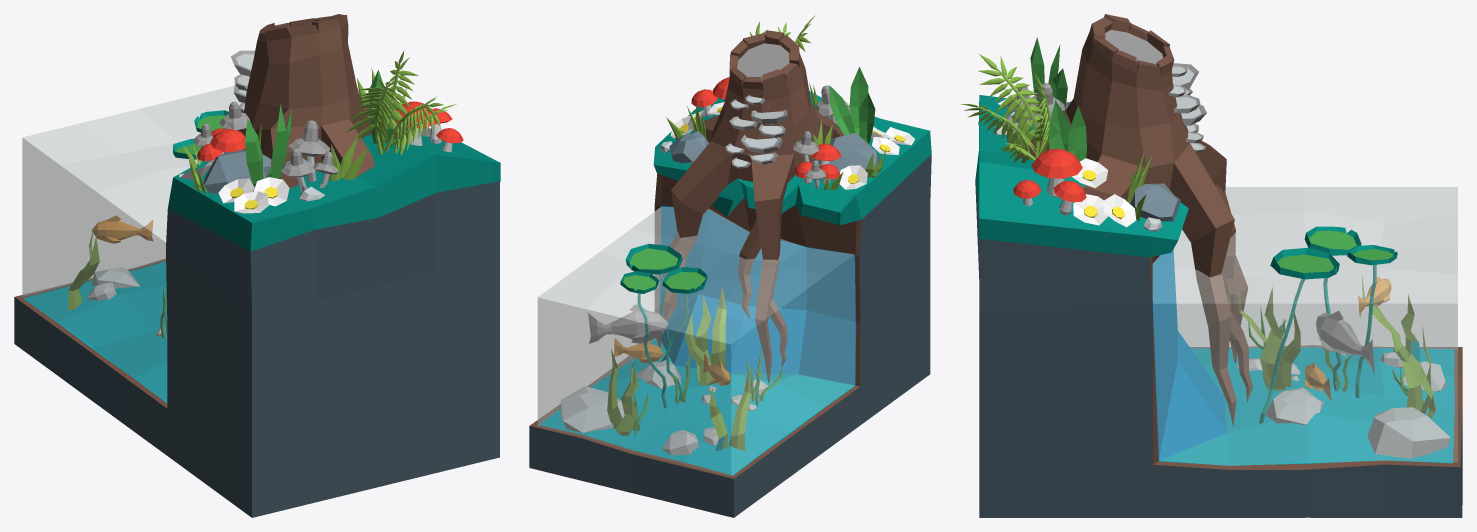
3 views of the same model, side by side, from view 1: azimuth 30°, elevation 25°; view 2: azimuth 150°, elevation 25°; view 3: azimuth 270°, elevation 25° (orthographic). The views are drawn at different scales.
Parts seen in each view (by area): view 1: group1578036805, group175596712, group1166855750, group1500135362, group243591207, group255044376, group158305704, group34612838, group1800148420, group1677578353, group1963767172, group1655467539 (+6 smaller); view 2: group1578036805, group175596712, group2001850245, group1893776825, group1035863982, group1500135362, group313135819, group2103549165, group352322886, group274284134, group1677578353, group1963767172 (+14 smaller); view 3: group1578036805, group175596712, group2001850245, group1166855750, group1035863982, group1893776825, group197838867, group352322886, group1884153107, group2103549165, group451813166, group34612838 (+14 smaller).
Boxes of the visible parts, x1=… form: group1578036805: x1=14, y1=86, x2=500, y2=517; group175596712: x1=223, y1=14, x2=406, y2=187; group1166855750: x1=346, y1=78, x2=399, y2=155; group1500135362: x1=203, y1=149, x2=271, y2=194; group243591207: x1=91, y1=215, x2=153, y2=243; group255044376: x1=380, y1=50, x2=418, y2=149; group158305704: x1=288, y1=120, x2=330, y2=181; group34612838: x1=386, y1=96, x2=443, y2=151; group1800148420: x1=245, y1=118, x2=263, y2=190; group1677578353: x1=68, y1=237, x2=99, y2=311; group1963767172: x1=271, y1=104, x2=286, y2=178; group1655467539: x1=91, y1=267, x2=139, y2=288; group1578036805: x1=529, y1=91, x2=931, y2=517; group175596712: x1=656, y1=30, x2=843, y2=382; group2001850245: x1=560, y1=386, x2=624, y2=432; group1893776825: x1=588, y1=304, x2=668, y2=343; group1035863982: x1=625, y1=244, x2=682, y2=274; group1500135362: x1=818, y1=133, x2=879, y2=179; group313135819: x1=738, y1=219, x2=761, y2=319; group2103549165: x1=662, y1=267, x2=707, y2=293; group352322886: x1=669, y1=130, x2=708, y2=163; group274284134: x1=710, y1=286, x2=726, y2=368; group1677578353: x1=729, y1=370, x2=751, y2=450; group1963767172: x1=849, y1=66, x2=868, y2=136; group1578036805: x1=975, y1=95, x2=1462, y2=517; group175596712: x1=1017, y1=14, x2=1248, y2=426; group2001850245: x1=1367, y1=407, x2=1450, y2=458; group1166855750: x1=978, y1=54, x2=1047, y2=158; group1035863982: x1=1270, y1=247, x2=1339, y2=279; group1893776825: x1=1316, y1=311, x2=1374, y2=374; group197838867: x1=1265, y1=387, x2=1323, y2=424; group352322886: x1=1130, y1=183, x2=1180, y2=221; group1884153107: x1=1031, y1=148, x2=1082, y2=197; group2103549165: x1=1304, y1=226, x2=1361, y2=255; group451813166: x1=1260, y1=287, x2=1285, y2=390; group34612838: x1=960, y1=104, x2=1037, y2=159.
Size of the model in its own units: 0.4646 by 0.7609 by 0.7935.
